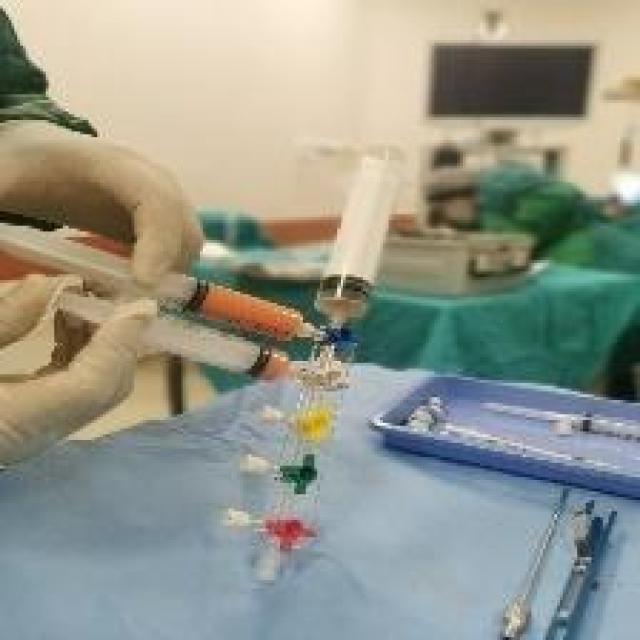syringe: (23, 209, 308, 407), (434, 378, 640, 484)
